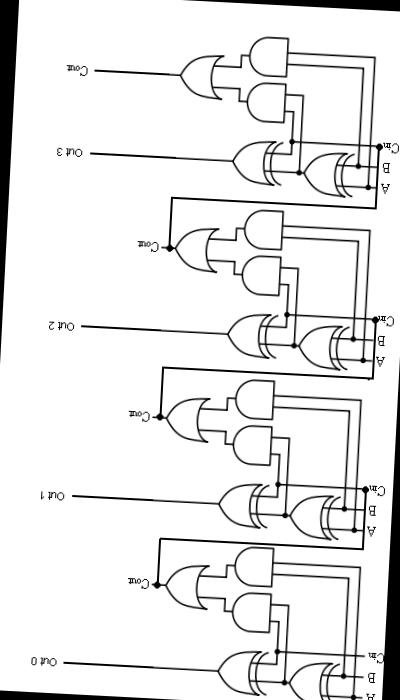and: (244, 30, 294, 80), (239, 79, 288, 130), (227, 586, 276, 635), (227, 420, 277, 468), (238, 204, 288, 251), (229, 541, 278, 588), (237, 250, 284, 298), (230, 375, 278, 421)
or: (172, 48, 228, 103), (170, 221, 222, 276), (160, 392, 212, 444), (160, 560, 212, 612)
xor: (210, 642, 270, 700), (220, 308, 282, 363), (226, 134, 286, 187), (212, 477, 272, 530), (299, 145, 356, 199), (286, 488, 342, 542), (296, 319, 350, 372), (286, 654, 344, 700)
